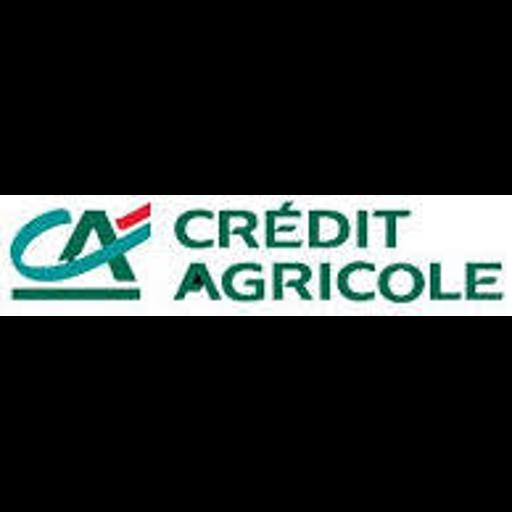Credit Agricole S-A: (0, 195, 512, 316)
